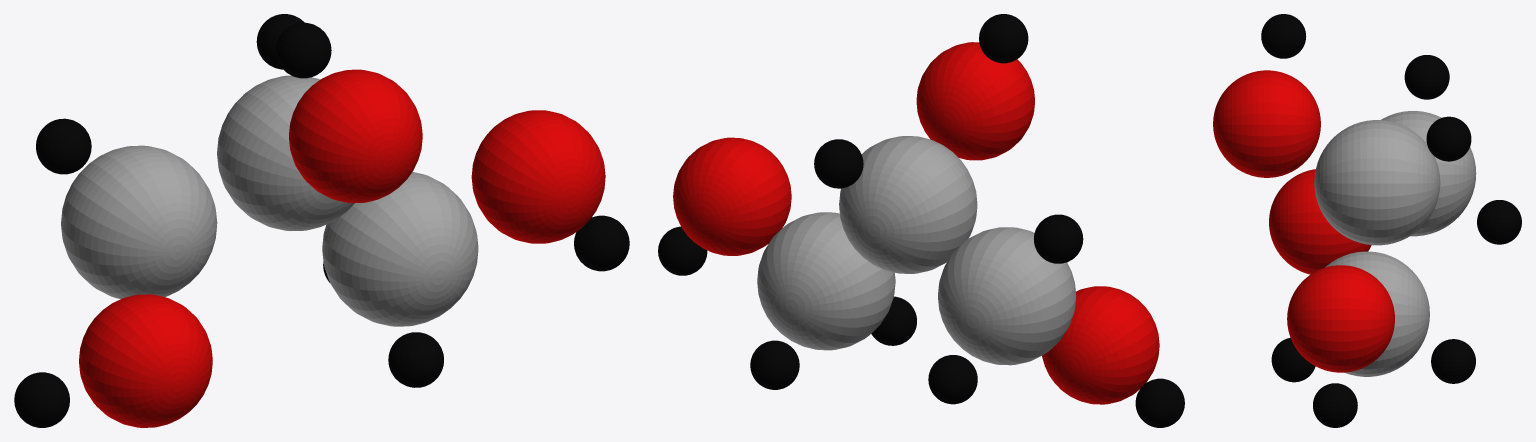
Rendered from Glycerol.glb.
3 renders of one model, left to right at view 1: azimuth 30°, elevation 25°; view 2: azimuth 150°, elevation 25°; view 3: azimuth 270°, elevation 25°, orthographic. The views are drawn at different scales.
Visible parts, largest first — view 1: world; view 2: world; view 3: world.
Boxes of the visible parts, x1=… form: world: x1=14, y1=14, x2=629, y2=427; world: x1=658, y1=14, x2=1184, y2=427; world: x1=1213, y1=14, x2=1521, y2=427.
Size of the model in its own units: 6.18 by 3.89 by 3.43.
